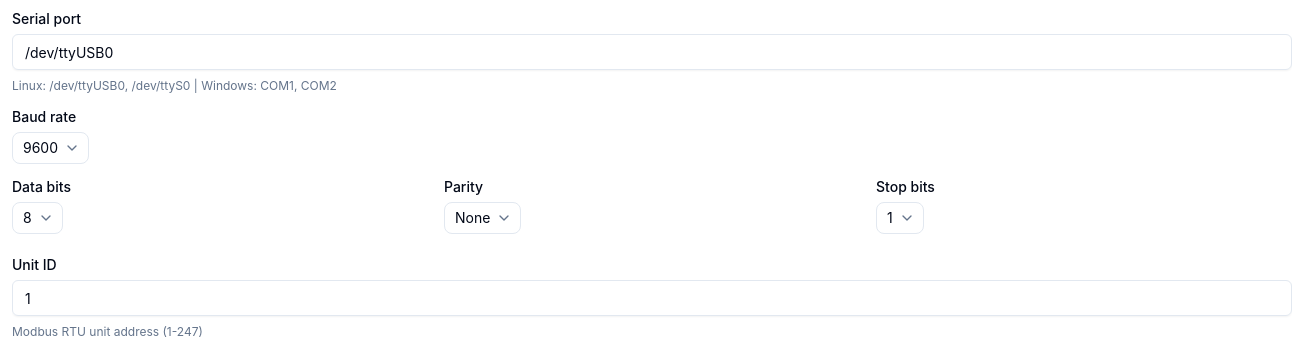
it: 设备接入连接表单英文界面 › Modbus RTU 说明和校验位选项应使用英文翻译资源
Expected: the text "Linux: /dev/ttyUSB0, /dev/ttyS0 | Windows: COM1, COM2" is shown, [12,78,337,93]
Expected: the text "Modbus RTU unit address (1-247)" is shown, [12,324,203,339]
Click the dropdown named "Parity" at (483, 218), box [444,202,521,234]
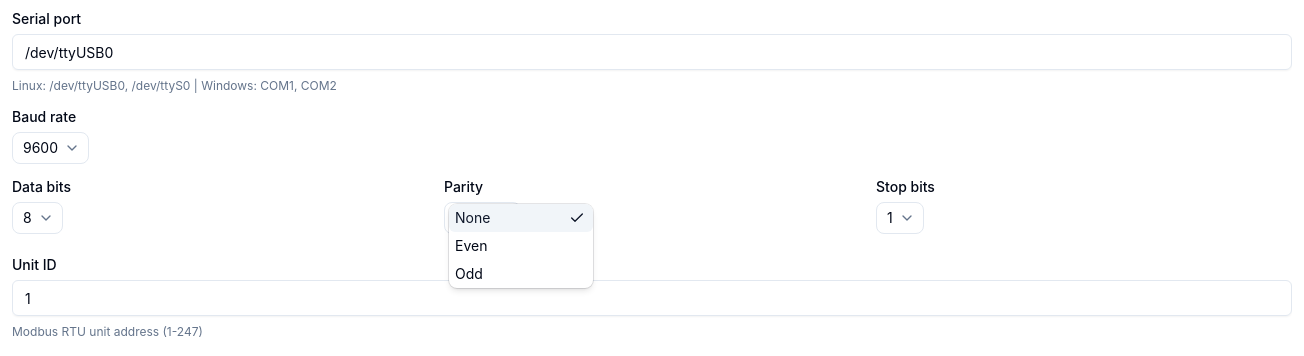
Expected: the text "None" is shown 2 times, [455,208,490,228]; [455,209,490,226]
Expected: the text "Even" is shown, [455,237,488,254]
Expected: the text "Odd" is shown, [455,265,483,282]
